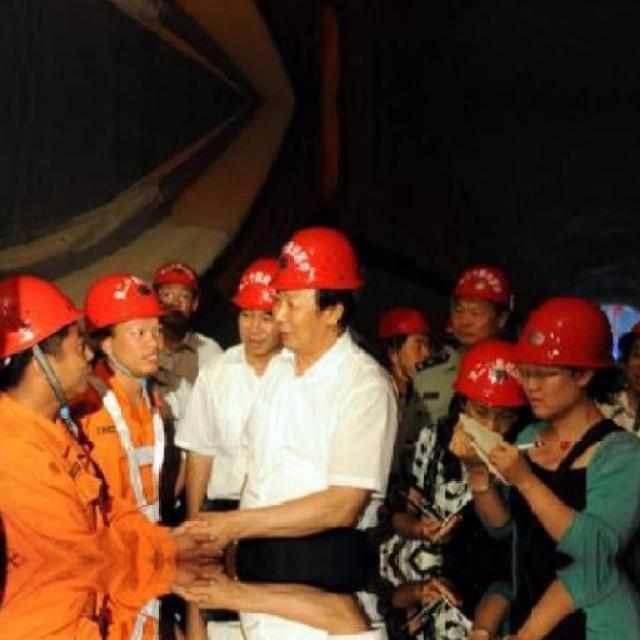helmet: (512, 296, 618, 369), (0, 273, 85, 363), (270, 226, 366, 291), (452, 338, 529, 408), (84, 272, 170, 334), (452, 264, 514, 309), (378, 306, 431, 338)
